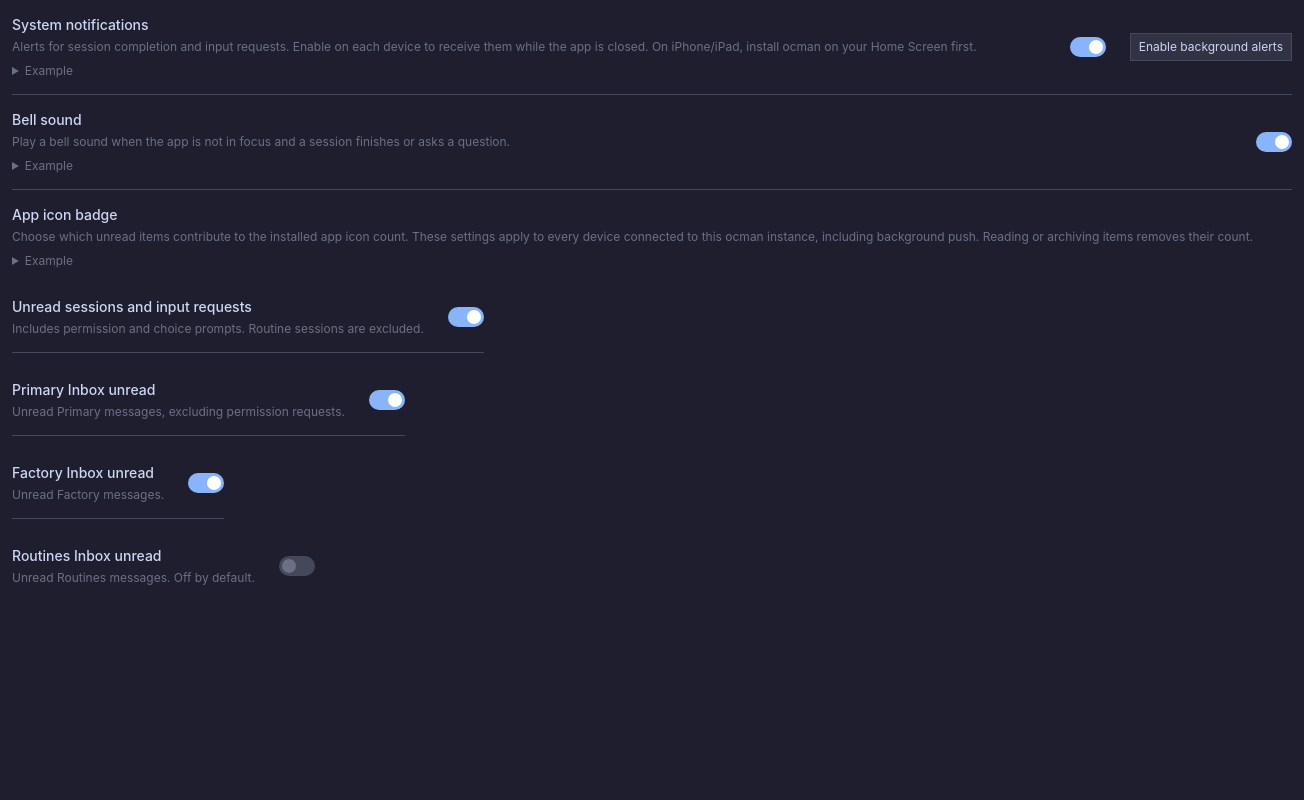
Test case: offers existing notification users a background-push upgrade
Click the button "Enable background alerts".
click(1211, 47)  # box [1130,33,1292,61]
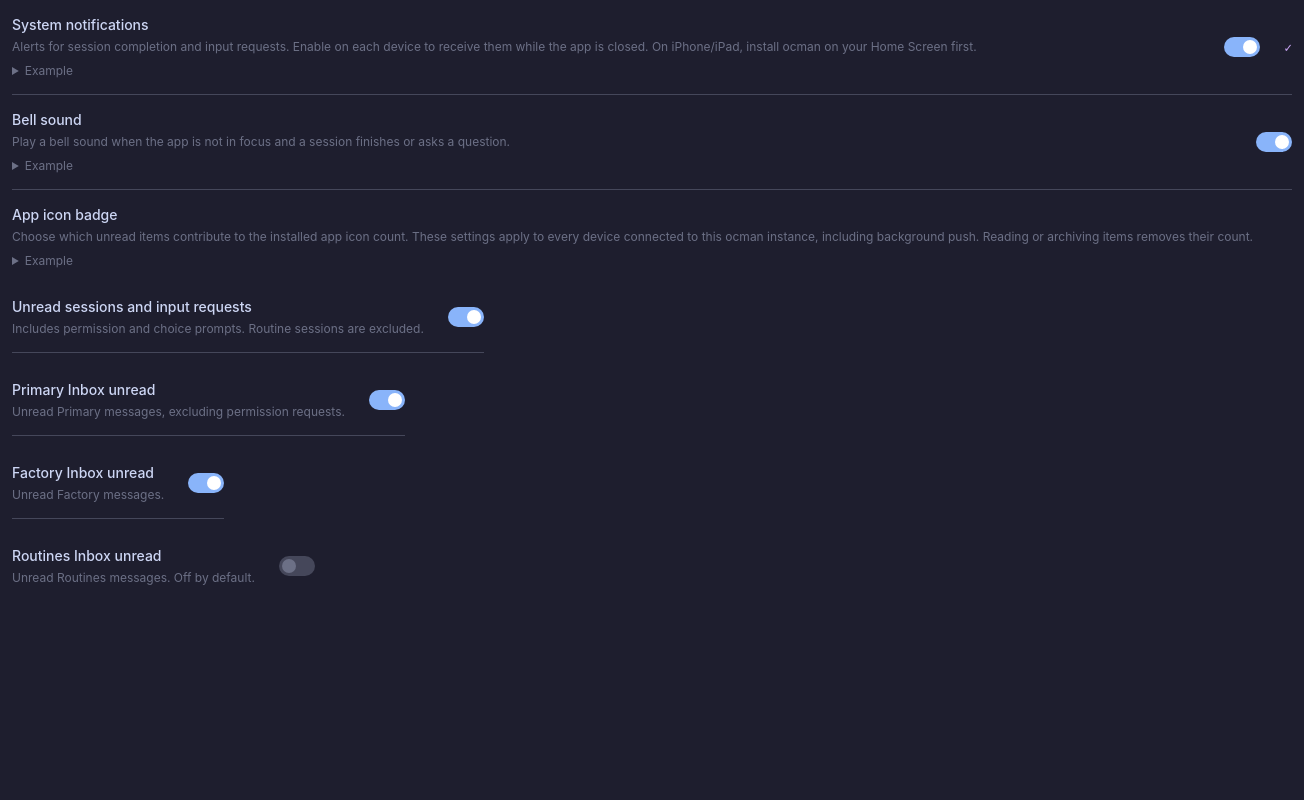
Expected: the button "Enable background alerts" is gone
